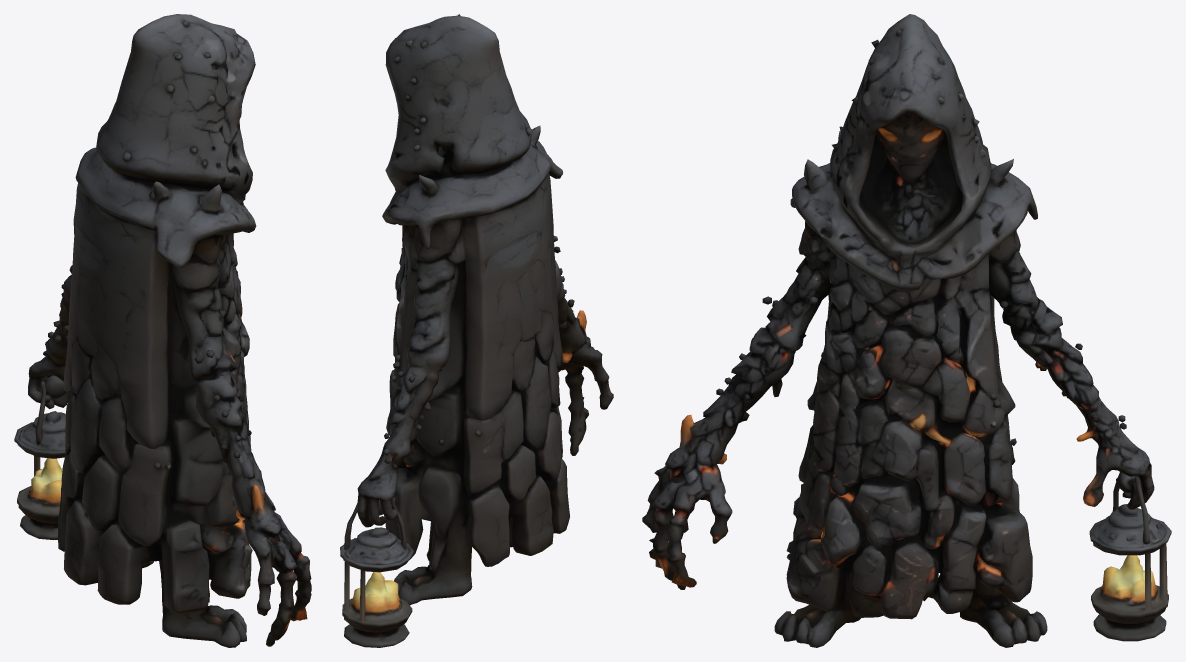
3 views of the same model, side by side, from view 1: azimuth 30°, elevation 25°; view 2: azimuth 150°, elevation 25°; view 3: azimuth 270°, elevation 25° (orthographic). The views are drawn at different scales.
Visible parts, largest first — view 1: tripo_node_b2e14bef-e7f8-4371-8163-9a84b1f40208; view 2: tripo_node_b2e14bef-e7f8-4371-8163-9a84b1f40208; view 3: tripo_node_b2e14bef-e7f8-4371-8163-9a84b1f40208.
Part boxes in pixels (box(x1,y1,x2,y2)): tripo_node_b2e14bef-e7f8-4371-8163-9a84b1f40208: box(14, 14, 311, 647); tripo_node_b2e14bef-e7f8-4371-8163-9a84b1f40208: box(340, 14, 613, 647); tripo_node_b2e14bef-e7f8-4371-8163-9a84b1f40208: box(642, 14, 1171, 647).
Size of the model in its own units: 0.3072 by 1 by 0.7828.
1 material, 1 textured.
